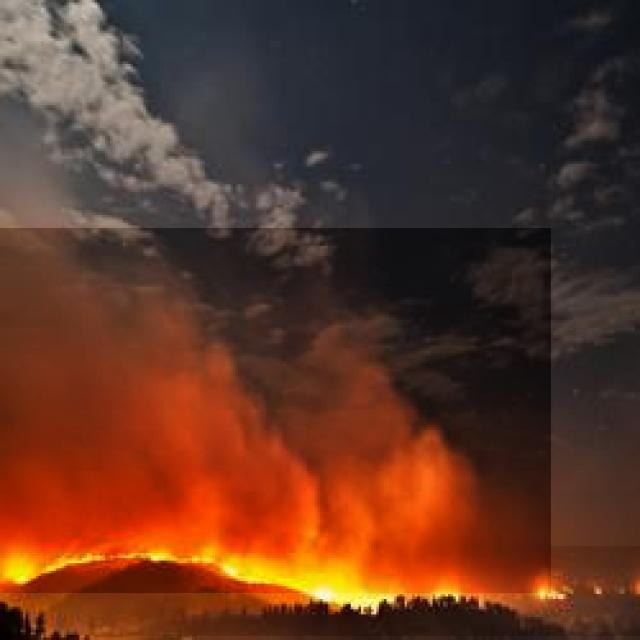Fire: (0, 546, 640, 636)
Smoke: (0, 228, 551, 593)
